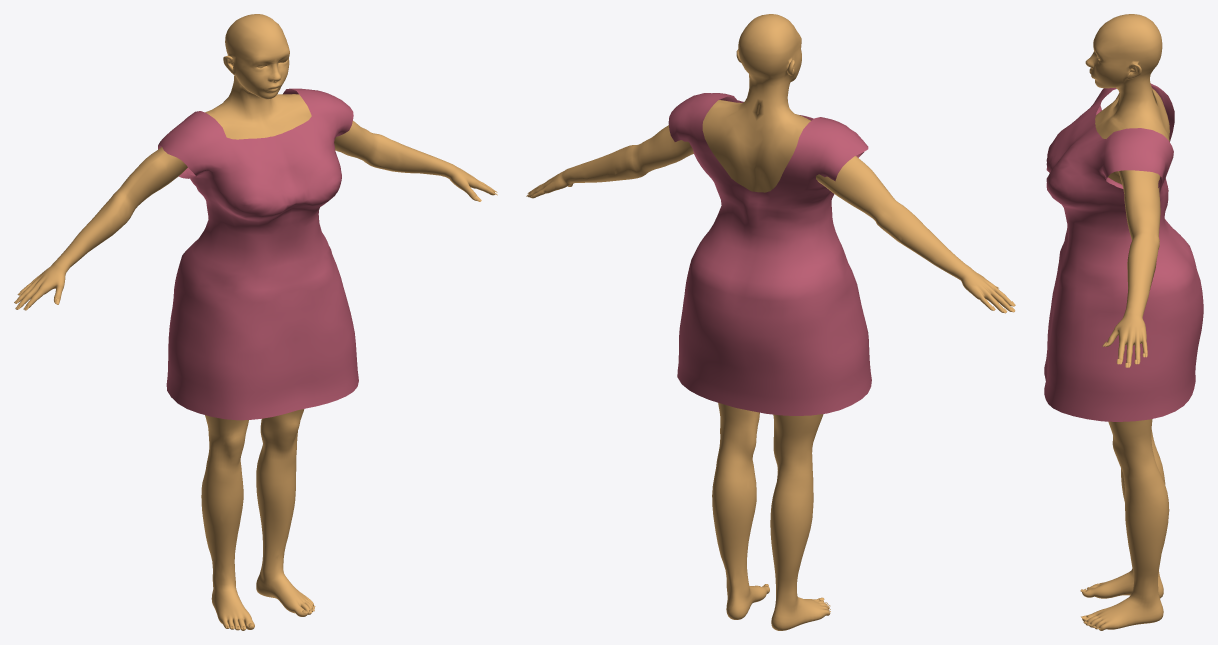
The model's file is dress7.glb.
3 views of the same model, side by side, from view 1: azimuth 30°, elevation 25°; view 2: azimuth 150°, elevation 25°; view 3: azimuth 270°, elevation 25° (orthographic).
Parts seen in each view (by area): view 1: Jennifer.F_Dress_01, Body.003; view 2: Jennifer.F_Dress_01, Body.003; view 3: Jennifer.F_Dress_01, Body.003.
Part boxes in pixels (x1,y1,x2,y2): Jennifer.F_Dress_01: (158,88,358,420); Body.003: (17,14,495,630); Jennifer.F_Dress_01: (668,93,871,415); Body.003: (527,14,1011,630); Jennifer.F_Dress_01: (1044,83,1203,421); Body.003: (1082,14,1169,630).
Bounding box in the file's own units: 1.58 × 1.85 × 0.4501.
